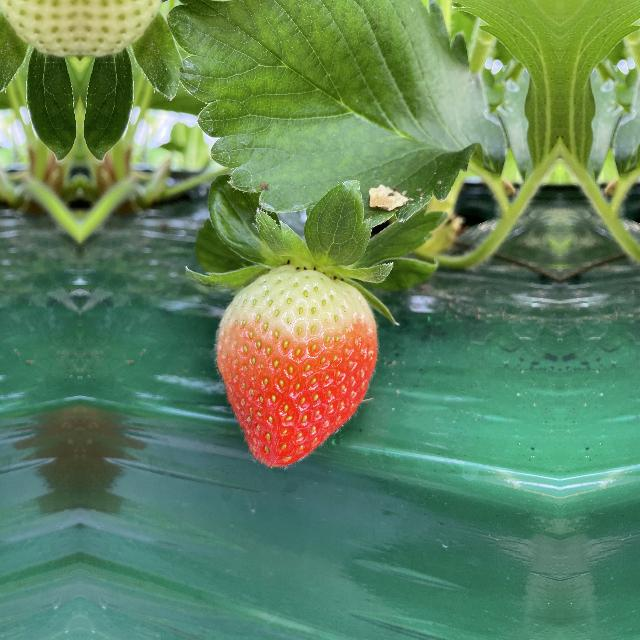Health_100: (210, 249, 388, 467)
